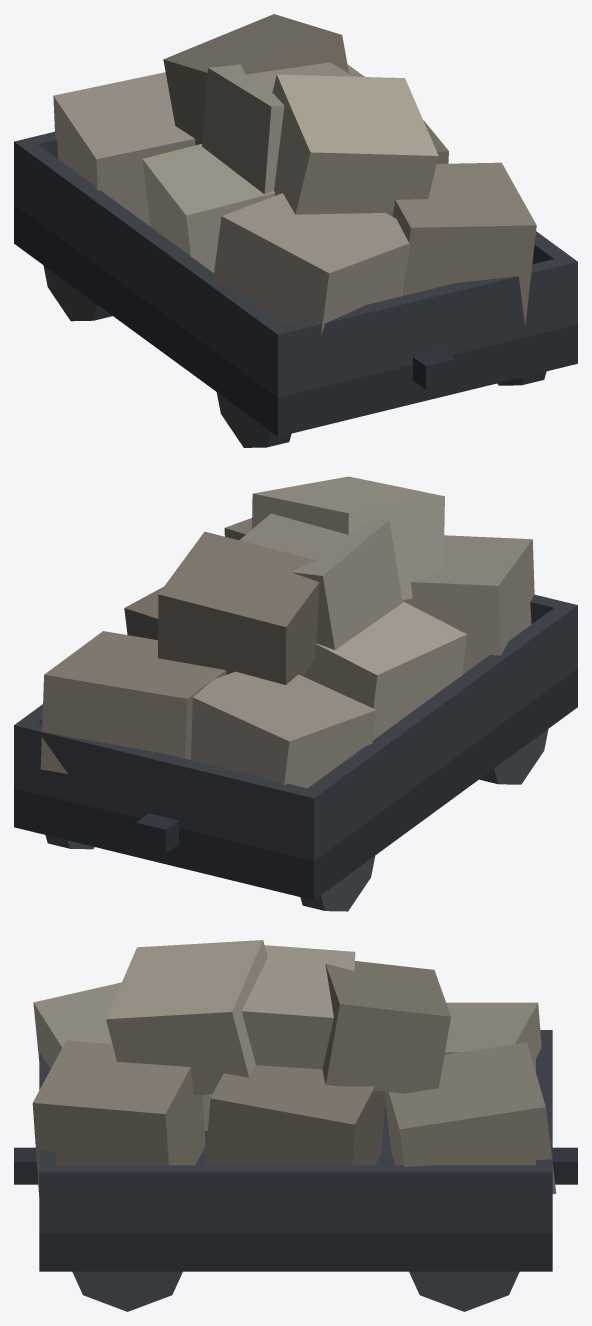
The model's file is wagon_stone.glb.
The picture shows the model from 3 angles, top to bottom: view 1: azimuth 30°, elevation 25°; view 2: azimuth 150°, elevation 25°; view 3: azimuth 270°, elevation 25°; orthographic projection. The views are drawn at different scales.
Parts seen in each view (by area): view 1: wagon_stone; view 2: wagon_stone; view 3: wagon_stone.
Part boxes in pixels (x1,y1,x2,y2): wagon_stone: [14, 14, 577, 447]; wagon_stone: [14, 476, 577, 911]; wagon_stone: [14, 940, 577, 1311].
Size of the model in its own units: 0.8 by 0.7578 by 1.34.
